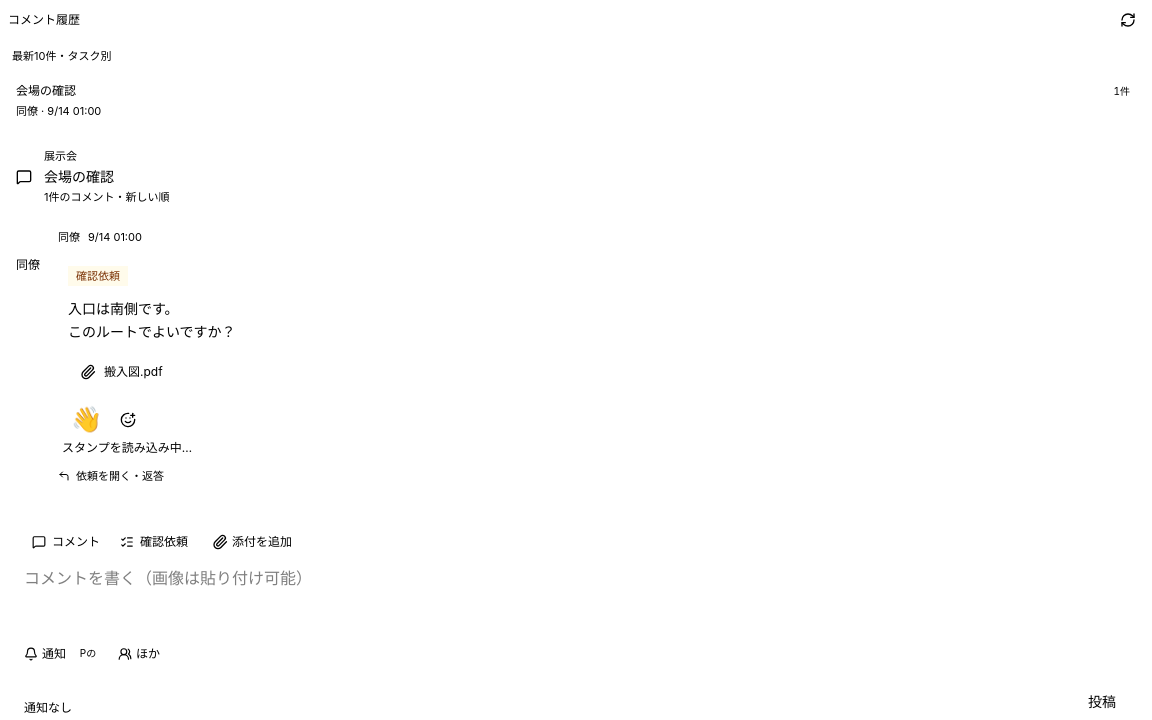
Test: CompanionComments › shows an empty state only after loading successfully, and never activates unsafe attachment URLs
expect the text "搬入図.pdf" is shown: met, box [104, 364, 163, 380]
Step 1. Click the button named "コメントを更新" → (1128,20), box [1112, 4, 1144, 36]
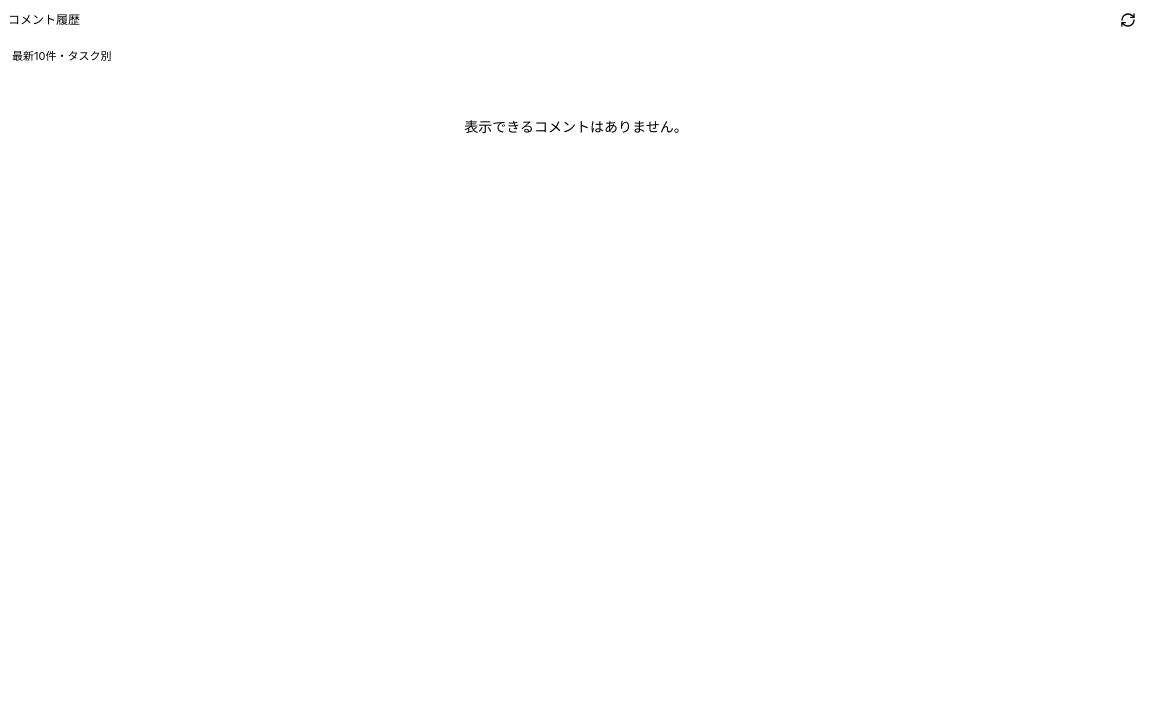
expect the text "表示できるコメントはありません。" is shown: met, box [464, 118, 688, 134]
